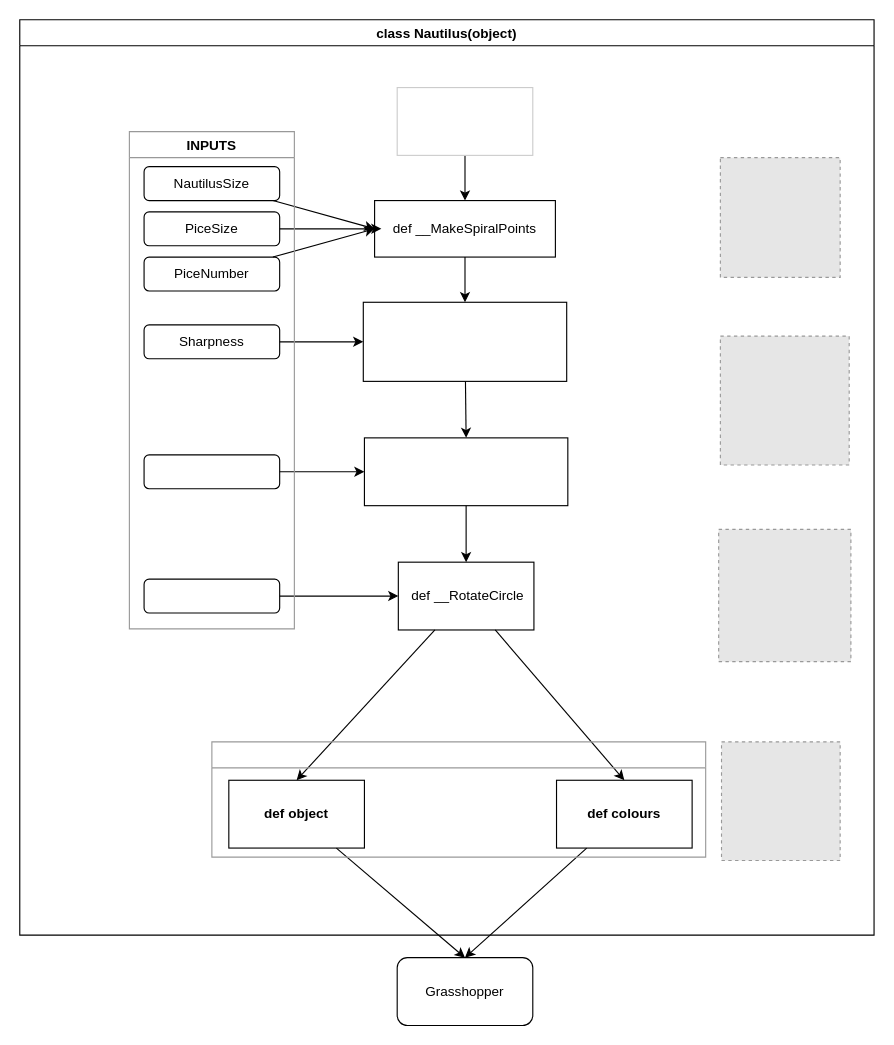
The diagram is 894 pixels wide and 1045 high, and some of its shapes have lost their labels. Grey dashed boxes stand in for pictures. The shapes that lost their labels are listed below. From the top down, each one's box as (x1, y1, x2, y2) in pixels, then its label:
(396, 86, 533, 155): def __init__
(362, 301, 567, 381): def __FibonacciSharpness OR SeriesSharpness
(143, 454, 280, 489): CircleSize
(363, 437, 568, 506): def __MakeSpiralCircles
(143, 578, 280, 613): CircleRotation
(211, 741, 706, 857): OUTPUT
